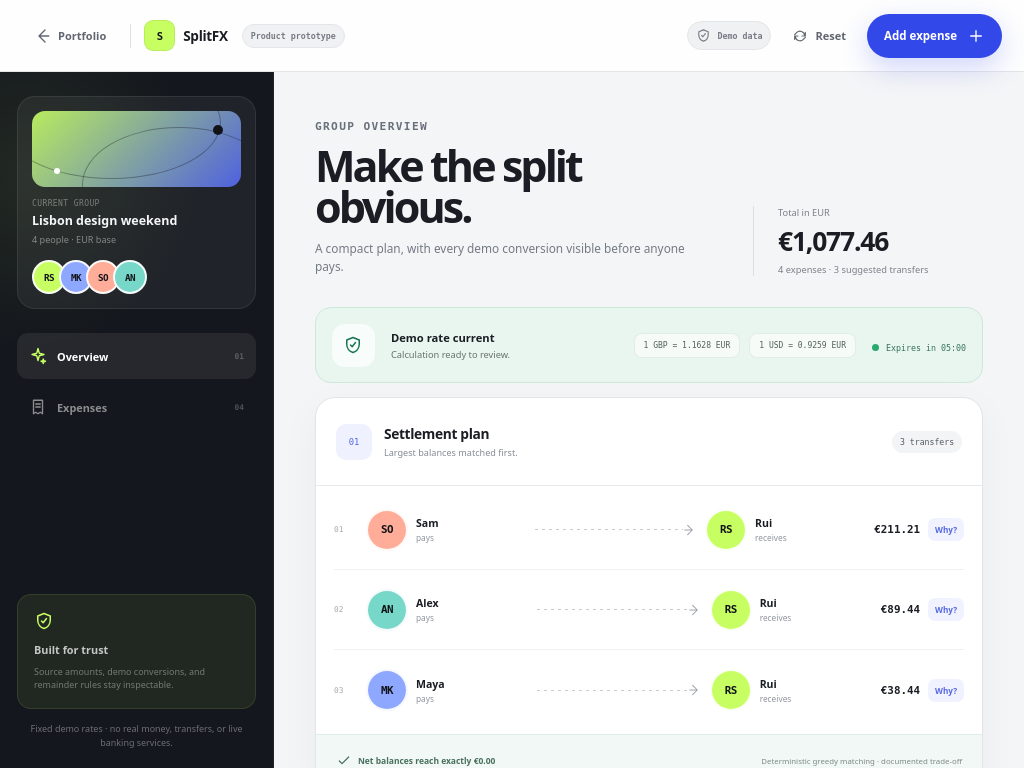
SplitFxLab › lets a user cancel the header add-expense flow
The width and height of the screenshot is (1024, 768).
Click the button "Add expense" at (934, 36), box [867,14,1002,58]
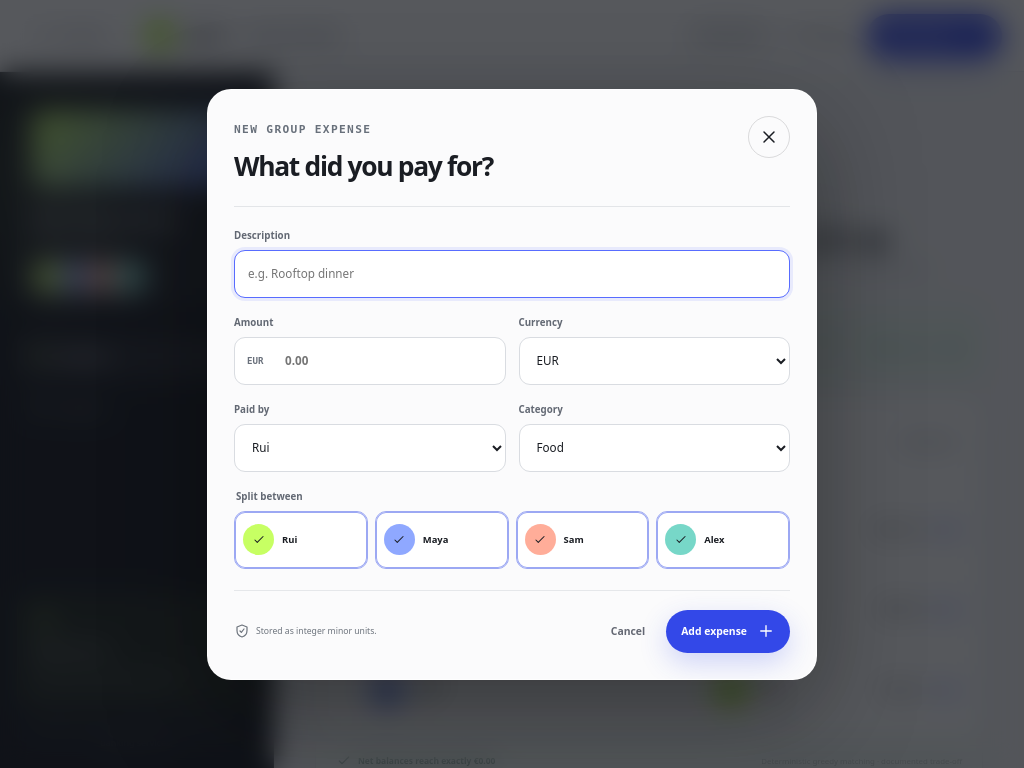
Result: the dialog "What did you pay for" is shown at [207,88,817,680]
Click the button "Cancel" at (628, 631), box [596,610,660,652]
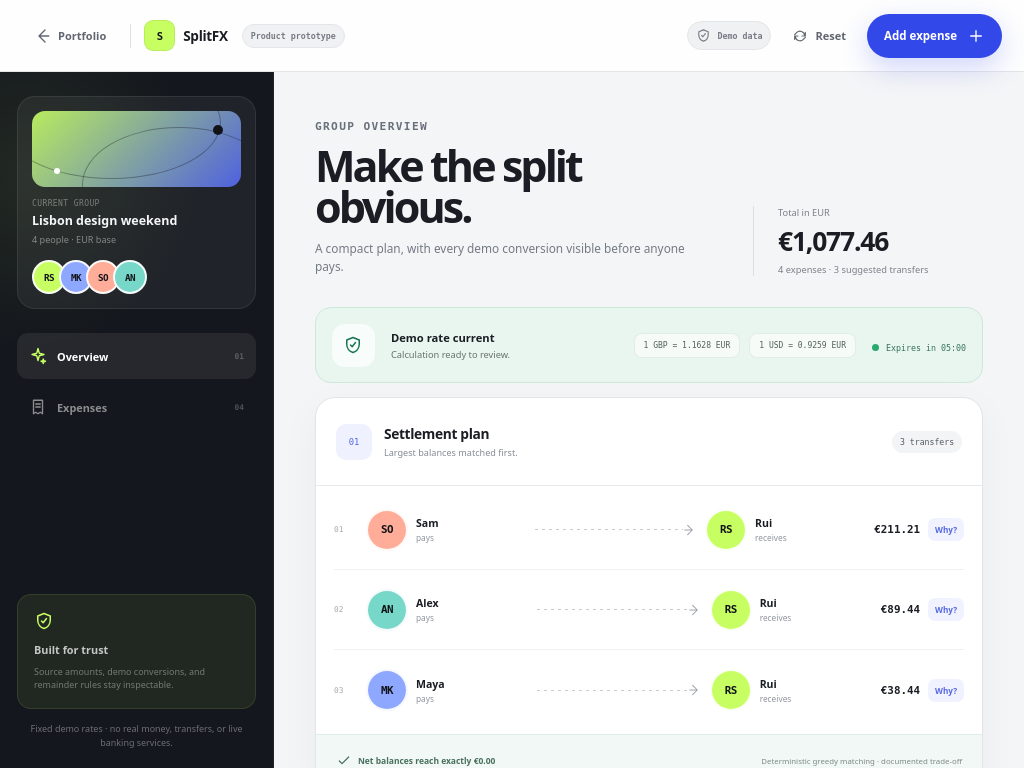
Result: the heading "What did you pay for" is gone
